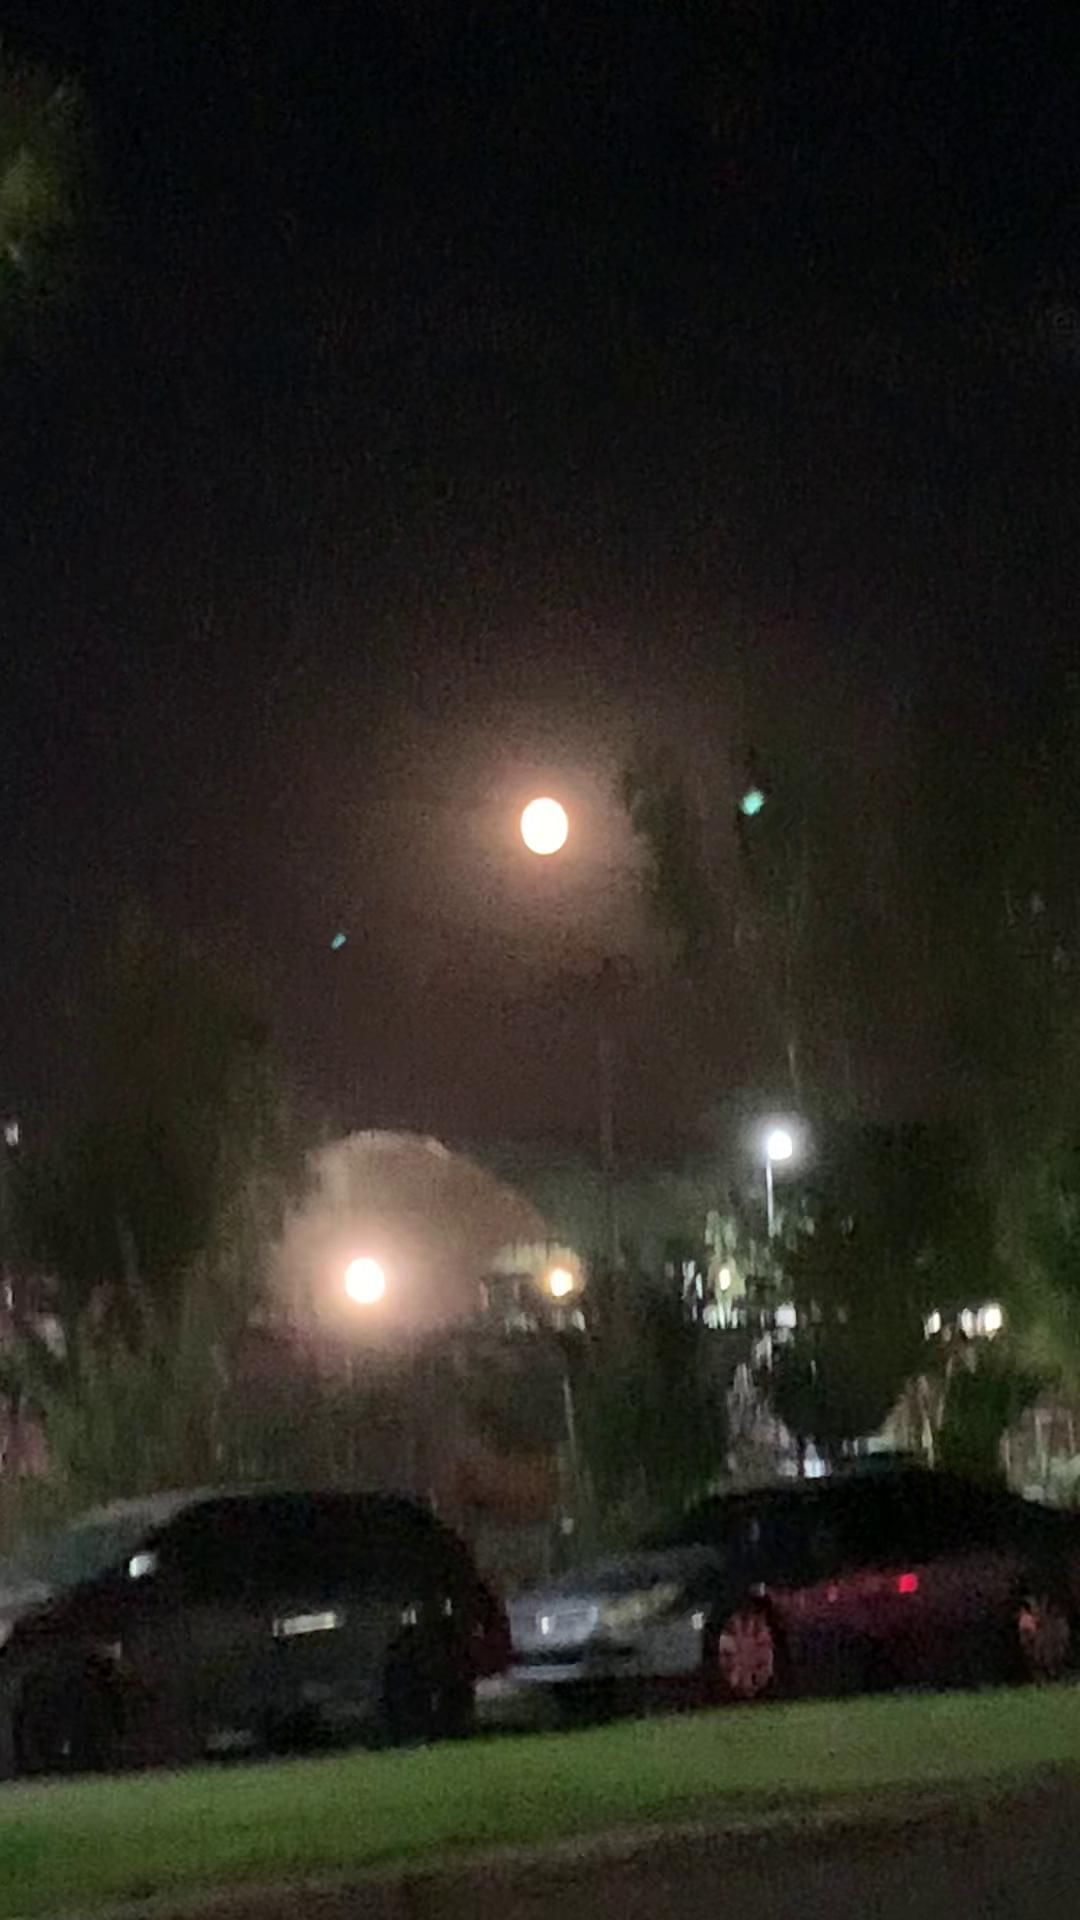moon: (504, 764, 594, 840)
